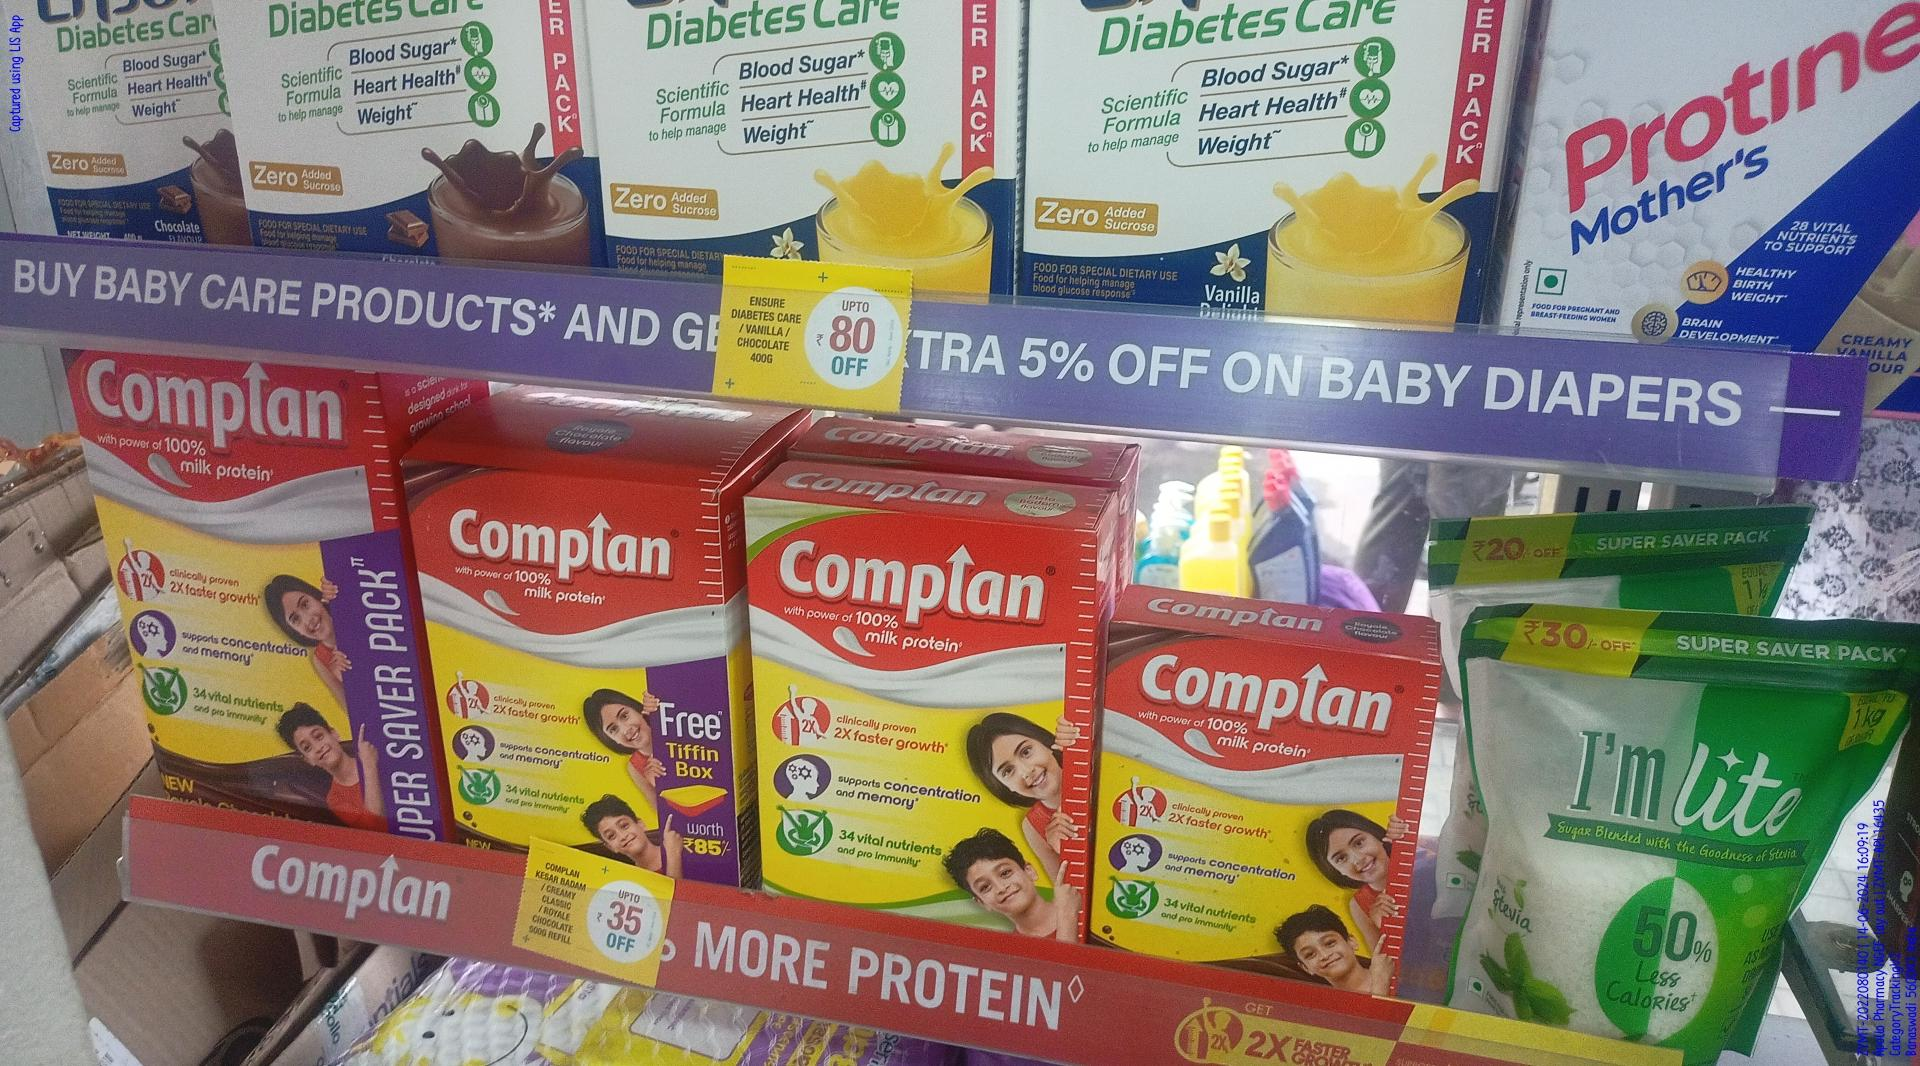COMPLAN_CHOCOLATE_1_KG_PACK: (76, 370, 388, 835)
COMPLAN_CHOCOLATE_200_GMS_PACK: (1105, 617, 1433, 962)
COMPLAN_CHOCOLATE_500_GMS_PACK: (429, 461, 730, 842)
COMPLAN_KESAR_BADAM_500_GMS_PACK: (752, 499, 1088, 931)
